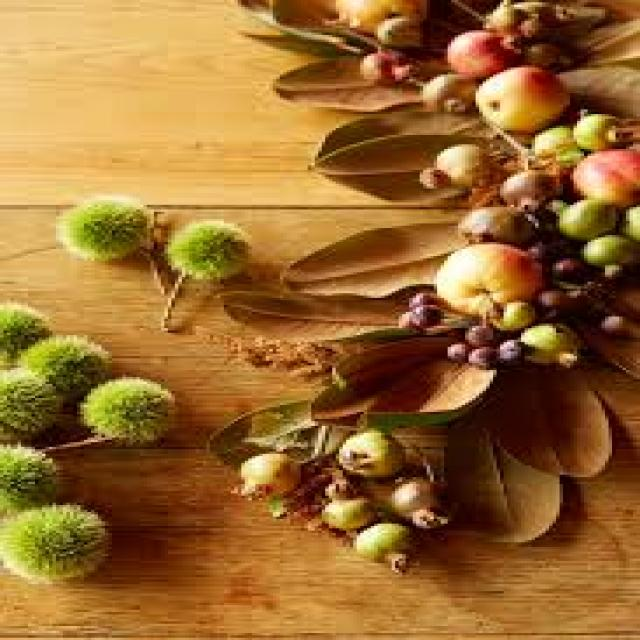organic waste: (304, 112, 483, 198), (476, 368, 612, 474), (276, 221, 469, 293), (465, 419, 560, 542), (214, 286, 396, 338), (356, 361, 496, 428), (0, 498, 105, 582), (189, 316, 343, 372), (272, 56, 420, 112), (434, 238, 538, 316), (203, 400, 325, 463), (73, 372, 175, 442), (311, 361, 462, 407), (472, 63, 570, 128), (336, 333, 458, 384), (52, 196, 147, 258), (10, 330, 105, 391), (161, 216, 245, 277), (476, 0, 605, 37), (0, 439, 59, 514), (0, 365, 59, 435), (560, 65, 636, 119), (566, 144, 636, 200), (416, 142, 504, 186), (228, 447, 298, 498), (322, 0, 426, 33), (350, 517, 416, 568), (385, 470, 444, 526), (332, 426, 395, 477), (245, 26, 371, 51), (574, 16, 636, 65), (493, 166, 560, 210), (440, 30, 510, 72), (315, 479, 374, 528), (570, 109, 637, 149), (416, 68, 479, 110), (0, 305, 45, 361), (514, 319, 570, 363), (580, 335, 636, 379), (454, 200, 518, 238), (556, 196, 616, 235), (514, 37, 584, 68), (580, 230, 636, 266), (360, 49, 416, 84), (528, 124, 581, 160), (482, 300, 532, 333), (259, 0, 332, 21), (524, 235, 574, 265), (378, 9, 420, 42), (518, 202, 556, 238), (542, 288, 581, 319), (549, 256, 591, 282), (591, 309, 633, 333), (594, 260, 636, 282), (409, 300, 437, 331), (465, 344, 497, 366), (465, 179, 497, 200), (462, 321, 500, 338), (497, 335, 521, 361), (616, 200, 636, 226), (556, 349, 581, 368), (406, 289, 434, 300), (392, 305, 409, 321)
